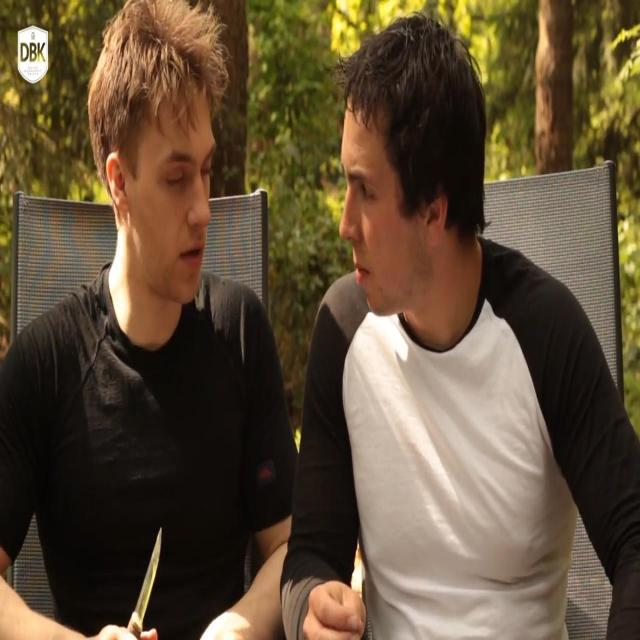Knife: (128, 524, 164, 637)
Person: (279, 13, 640, 640), (0, 0, 300, 640)
